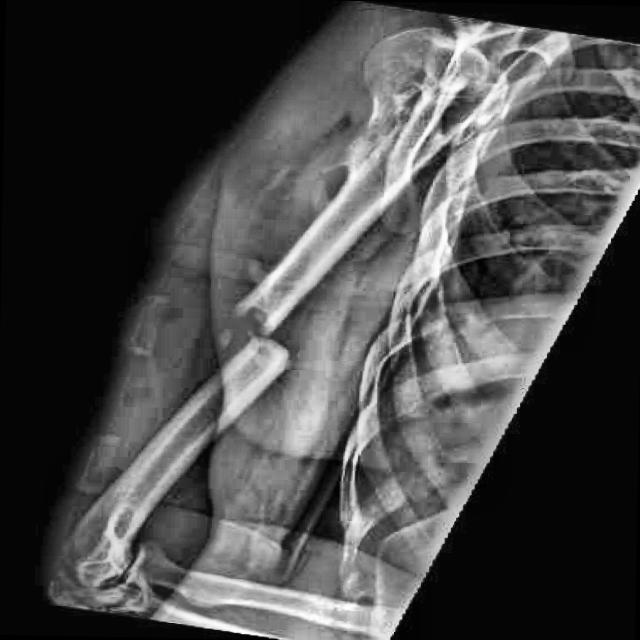humerus: (154, 232, 361, 459)
